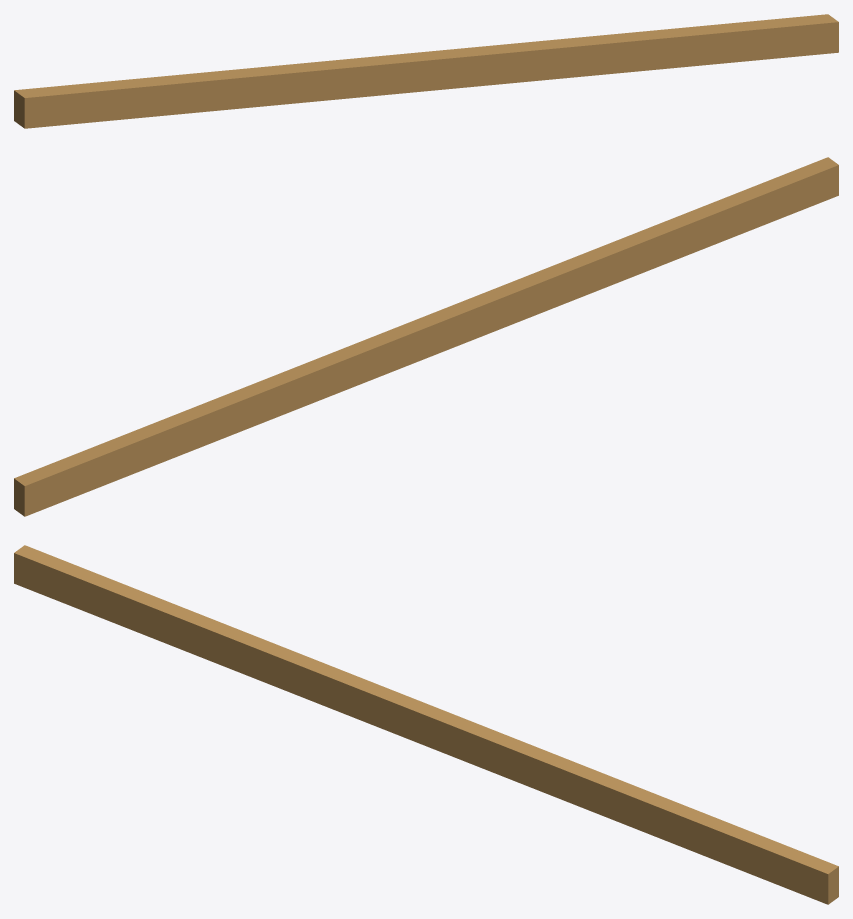
3 renders of one model, top to bottom at view 1: azimuth 30°, elevation 25°; view 2: azimuth 210°, elevation 25°; view 3: azimuth 330°, elevation 25°, orthographic.
Visible parts, largest first — view 1: L4-6-S5-3ED-M07; view 2: L4-6-S5-3ED-M07; view 3: L4-6-S5-3ED-M07.
Boxes of the visible parts, left/top/right/bottom form: L4-6-S5-3ED-M07: left=14, top=14, right=838, bottom=128; L4-6-S5-3ED-M07: left=14, top=157, right=838, bottom=516; L4-6-S5-3ED-M07: left=14, top=545, right=838, bottom=904.
Bounding box in the file's own units: 1.96 × 0.3525 × 0.045.
